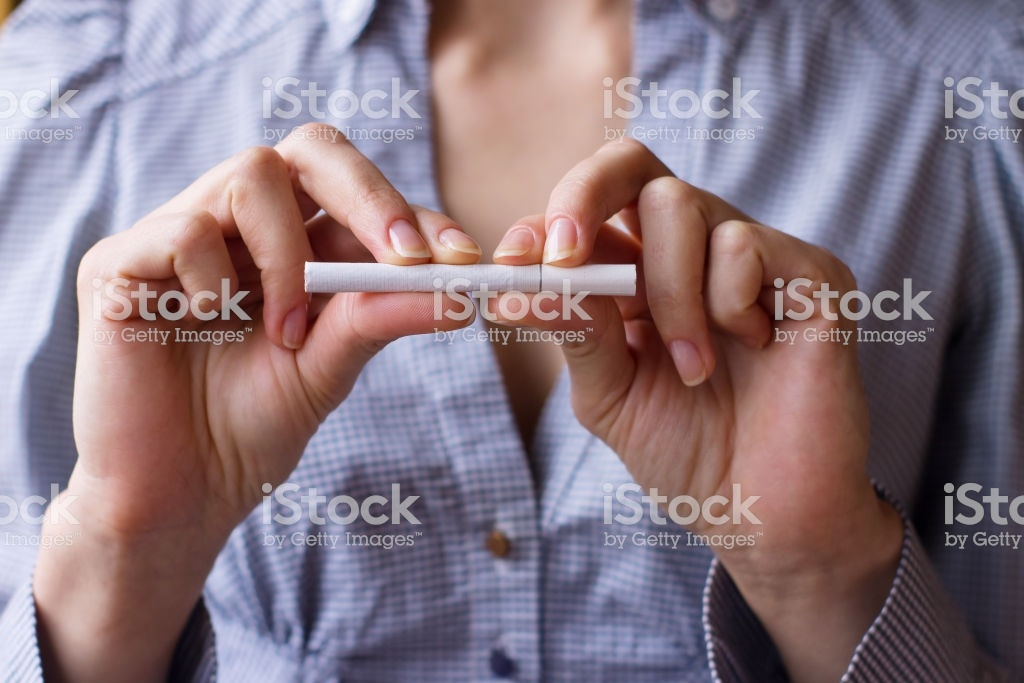sigaretta: (283, 249, 664, 301)
